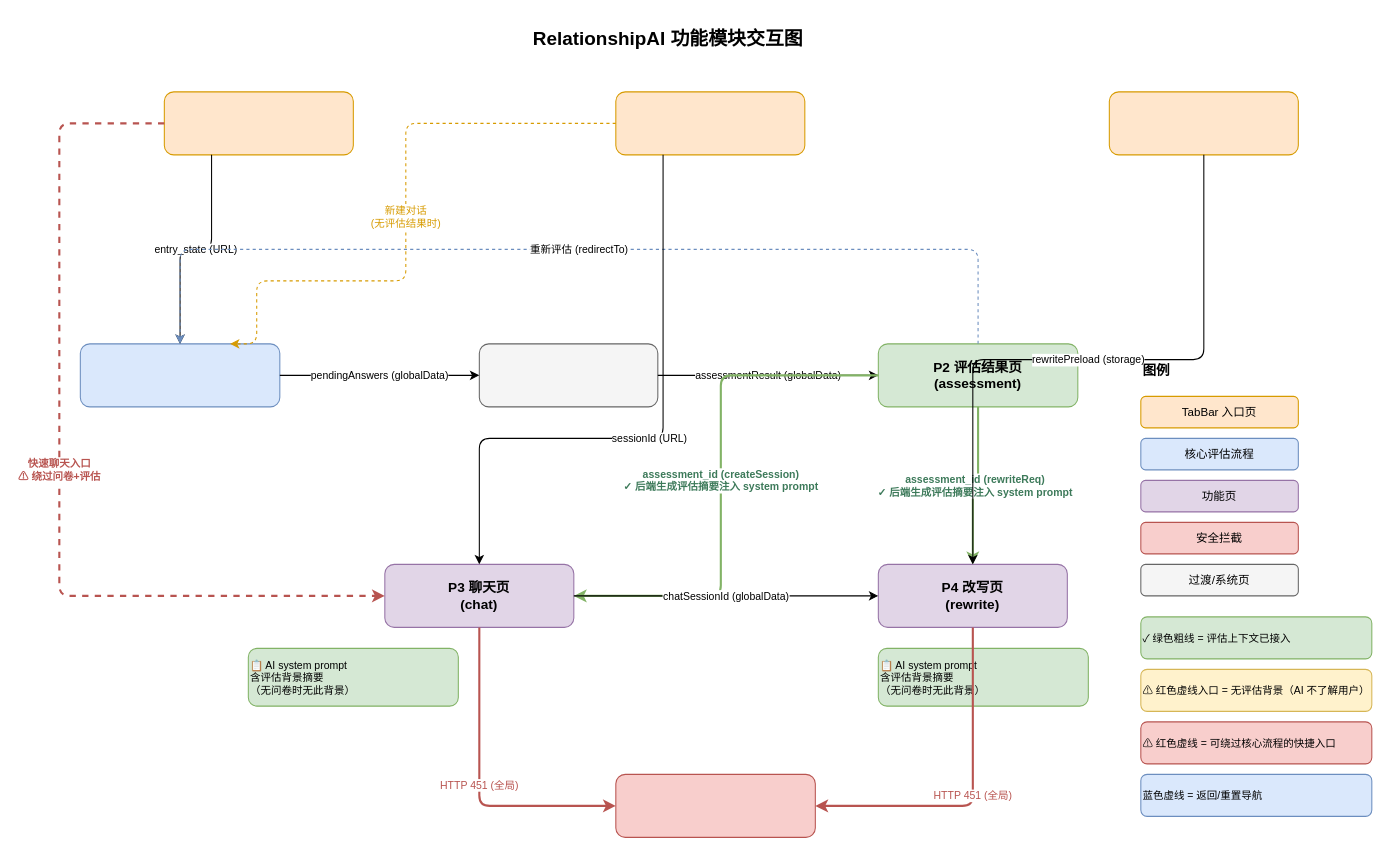
This 1390x856 diagram has some shape labels left out. The centre of each missing label's shape, as x and y in pixels:
"P0 首页 (index)" goes at point (258, 123).
"P1 问卷页 (questionnaire)" goes at point (179, 375).
"P3b 聊天历史 (sessions)" goes at point (710, 123).
"P4b 改写历史 (rewrites)" goes at point (1203, 123).
"P8 安全拦截页 (safety)" goes at point (715, 805).
"加载过渡页 (loading)" goes at point (568, 375).
